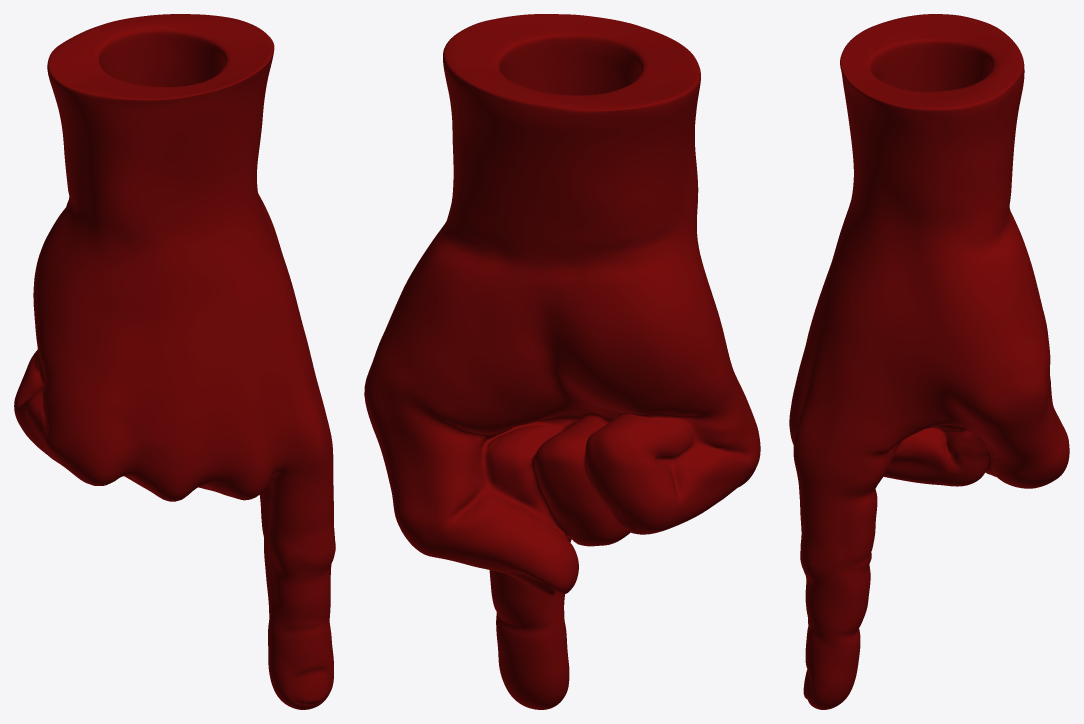
File: handpoint.fbx
3 views of the same model, side by side, from view 1: azimuth 30°, elevation 25°; view 2: azimuth 150°, elevation 25°; view 3: azimuth 270°, elevation 25° (orthographic). The views are drawn at different scales.
Parts seen in each view (by area): view 1: Pointer_v1_new:_Pointer_v1; view 2: Pointer_v1_new:_Pointer_v1; view 3: Pointer_v1_new:_Pointer_v1.
Boxes of the visible parts, box(x1,y1,x2,y2) form: Pointer_v1_new:_Pointer_v1: box(14, 14, 335, 709); Pointer_v1_new:_Pointer_v1: box(364, 14, 760, 709); Pointer_v1_new:_Pointer_v1: box(789, 14, 1069, 709).
Size of the model in its own units: 0.955 by 2.08 by 0.8717.
1 material, 1 textured.
